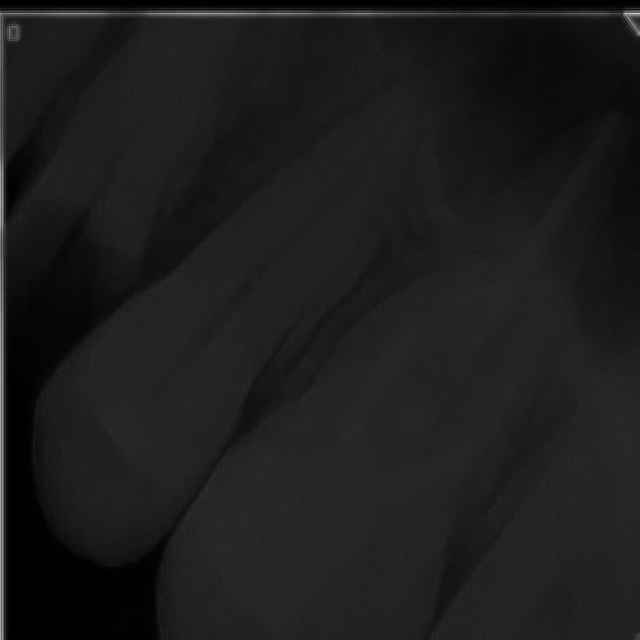Class 0- No endodontic treatment: (154, 59, 636, 637)
